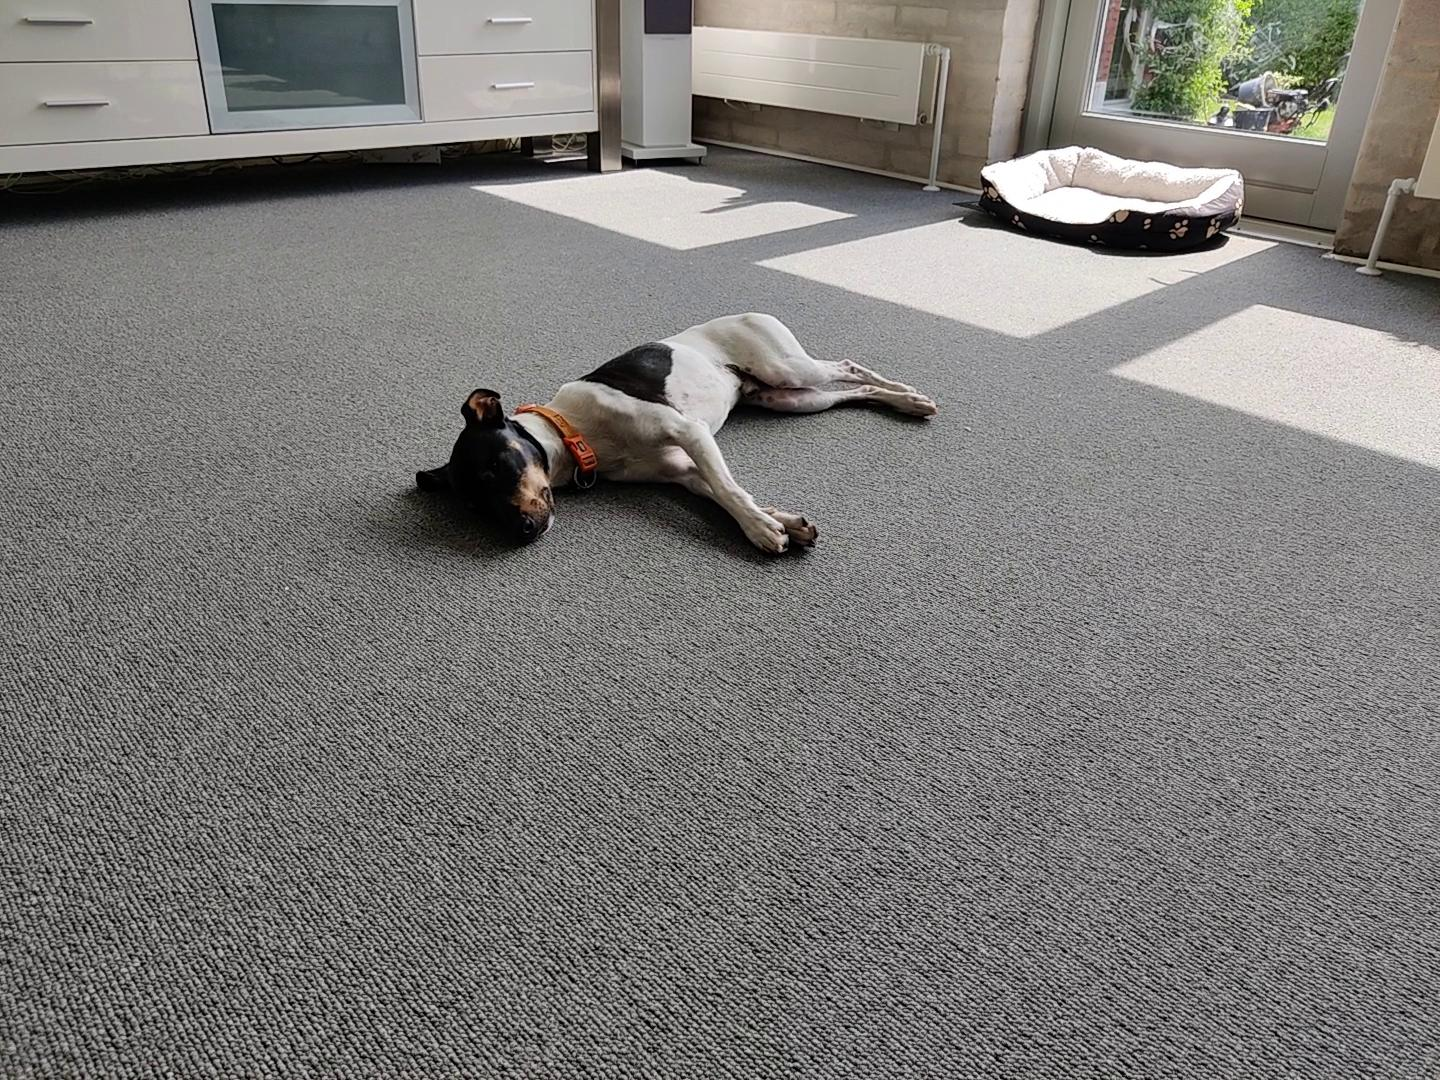Dog: (412, 306, 940, 559)
